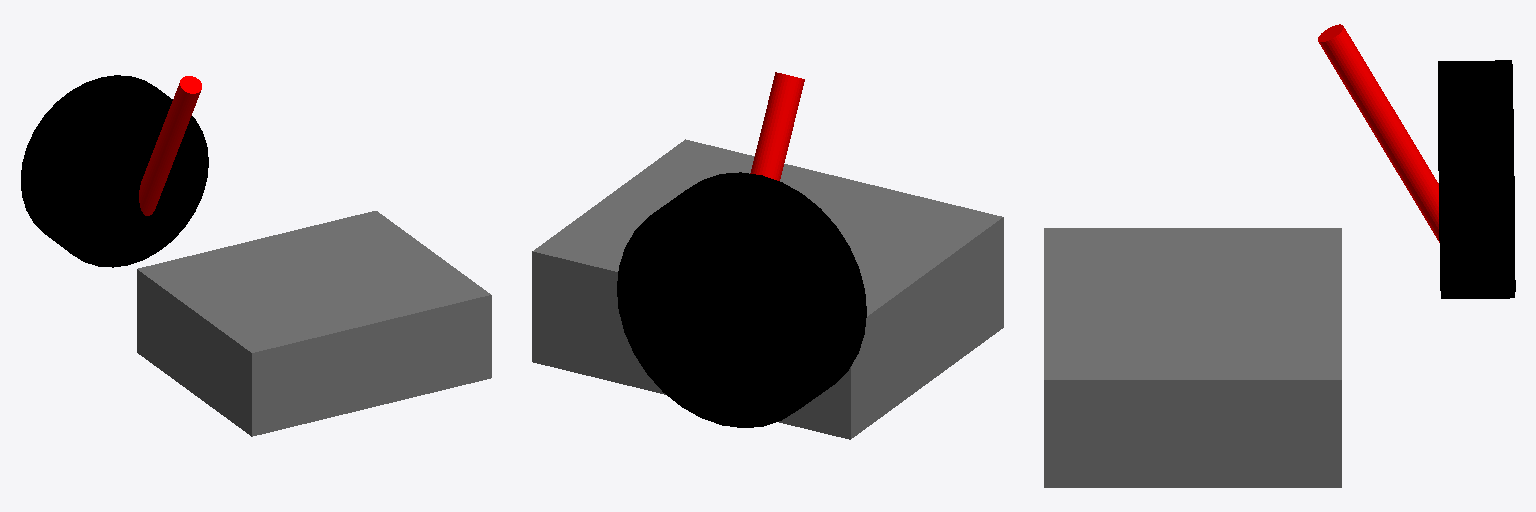
robot.urdf — myfirst:
<?xml version="1.0"?>
<robot name="myfirst">
    <!-- Materials -->
    <material name="blue">
        <color rgba="0 0 0.8 1"/>
    </material>
    <material name="red">
        <color rgba="1 0 0 1"/>
    </material>
    <material name="black">
        <color rgba="0 0 0 1"/>
    </material>
    <material name="grey">
        <color rgba="0.5 0.5 0.5 1.0"/>
    </material>

    <!-- Body of Robot -->
    <link name="base_link">
        <visual>
            <geometry>
                <box size=".24 0.20 .08"/>
            </geometry>
            <material name="grey"/>
        </visual>
    </link>

    <!-- Example of a joint and link definition -->
    <link name="right_front_suspension">
        <visual>
            <origin rpy=".5 0 0" xyz="0 0 0"/>
            <geometry>
                <cylinder length="0.2" radius="0.010"/>
            </geometry>
            <material name="red"/>
        </visual>
    </link>

    <joint name="right_front_base_joint" type="fixed">
        <parent link="base_link"/>
        <child link="right_front_suspension"/>
        <origin xyz="-0.07 0.14 0.12"/>
    </joint>

    <!-- Additional links and joints should follow the same structure -->

    <!-- Example wheel link -->
    <link name="wheel_joint">
        <visual>
            <origin rpy="1.585 0 0" xyz=".13 0 0"/>
            <geometry>
                <cylinder length="0.05" radius="0.08"/>
            </geometry>
            <material name="black"/>
        </visual>
    </link>

    <joint name="wheeler_joint" type="fixed">
        <parent link="right_front_suspension"/>
        <child link="wheel_joint"/>
        <origin xyz="-0.15 0.05 -0.03"/>
    </joint>

    <!-- Repeat the above structure for all your links and joints -->

</robot>

--- What the picture shows (computed from the rendered views, not written in the file) ---
Views: 3 orthographic renders of the robot side by side, from view 1: azimuth 30°, elevation 25°; view 2: azimuth 150°, elevation 25°; view 3: azimuth 270°, elevation 25°.
Model myfirst with 3 links and 2 joints (2 fixed), rooted at base_link, posed every joint at zero.
Visible links, largest first — view 1: base_link, wheel_joint, right_front_suspension; view 2: base_link, wheel_joint, right_front_suspension; view 3: base_link, wheel_joint, right_front_suspension.
Boxes of the visible links, left/top/right/bottom form: base_link: left=137, top=211, right=491, bottom=436; wheel_joint: left=21, top=75, right=208, bottom=267; right_front_suspension: left=139, top=76, right=201, bottom=215; base_link: left=532, top=139, right=1003, bottom=439; wheel_joint: left=617, top=172, right=866, bottom=427; right_front_suspension: left=750, top=72, right=804, bottom=180; base_link: left=1044, top=228, right=1341, bottom=487; wheel_joint: left=1438, top=60, right=1515, bottom=298; right_front_suspension: left=1318, top=24, right=1439, bottom=242.
Bounding box of the posed robot: 0.29 × 0.3161 × 0.2526 m (x, y, z).
Geometry: primitives only (box / cylinder / sphere), no mesh files.
